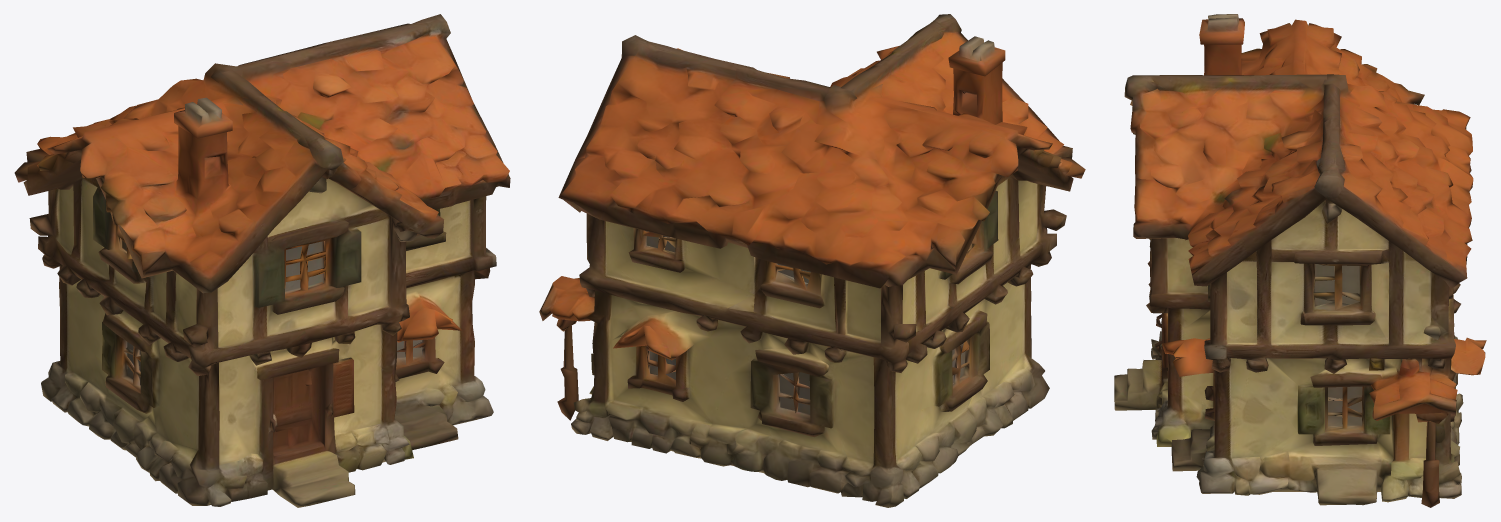
Rendered from tripo_corner_townhouse.glb.
The picture shows the model from 3 angles, left to right: view 1: azimuth 30°, elevation 25°; view 2: azimuth 150°, elevation 25°; view 3: azimuth 270°, elevation 25°; orthographic projection. The views are drawn at different scales.
Visible parts, largest first — view 1: corner_townhouse; view 2: corner_townhouse; view 3: corner_townhouse.
Boxes of the visible parts, left/top/right/bottom form: corner_townhouse: left=14, top=14, right=510, bottom=507; corner_townhouse: left=539, top=14, right=1085, bottom=507; corner_townhouse: left=1114, top=14, right=1486, bottom=507.
Bounding box in the file's own units: 10.86 × 9 × 8.68.
Materials: 1 (1 with a texture image).
